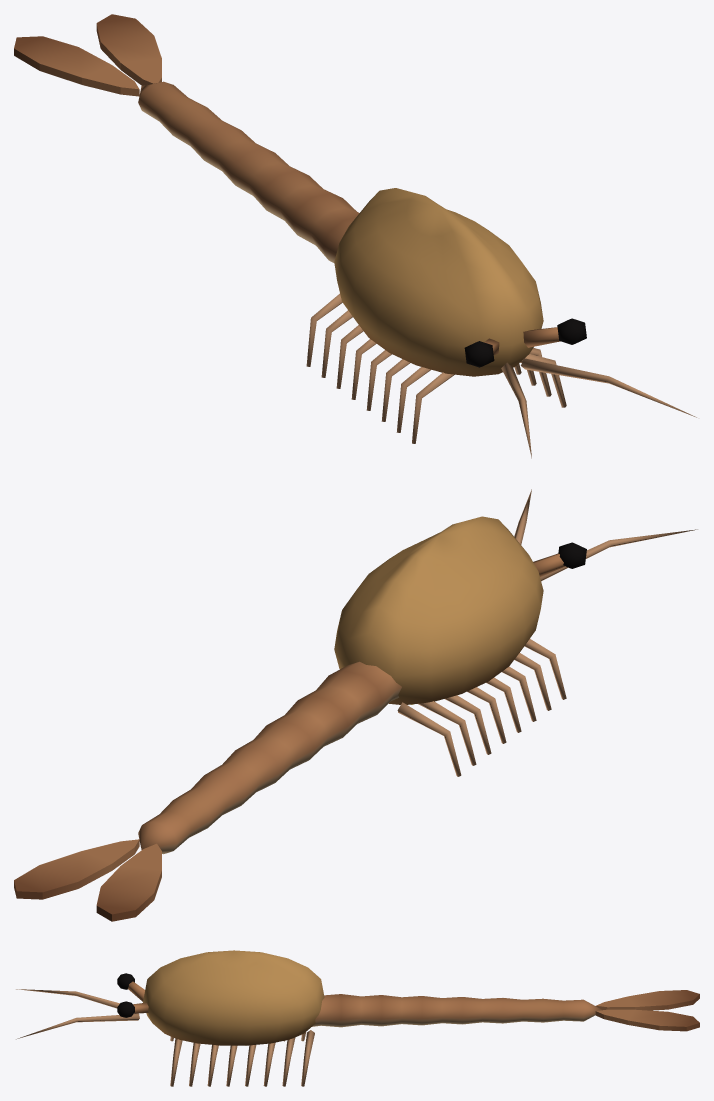
The model's file is Waptia.fbx.
3 renders of one model, top to bottom at view 1: azimuth 30°, elevation 25°; view 2: azimuth 150°, elevation 25°; view 3: azimuth 270°, elevation 25°, orthographic. The views are drawn at different scales.
Parts seen in each view (by area): view 1: Waptia; view 2: Waptia; view 3: Waptia.
Part boxes in pixels (<box>): Waptia: <box>14,14,696,458</box>; Waptia: <box>14,489,697,921</box>; Waptia: <box>16,950,699,1086</box>.
Size of the model in its own units: 0.29 by 0.3009 by 1.65.
